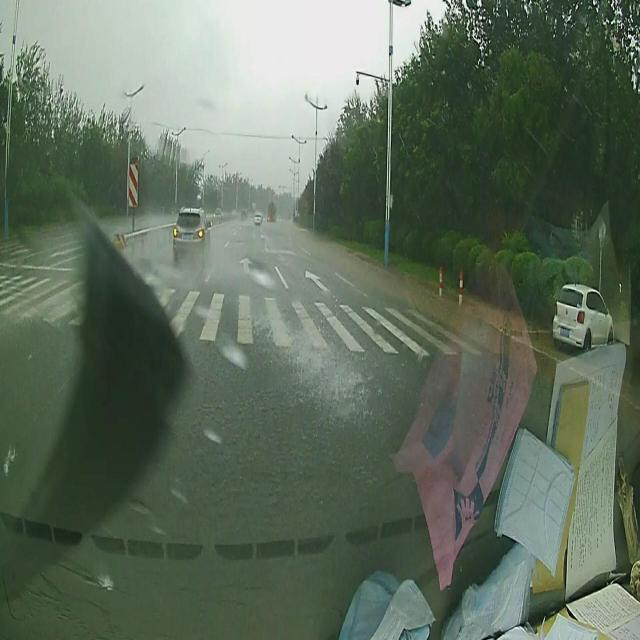car: (552, 284, 614, 350), (172, 204, 210, 264), (266, 198, 276, 222), (253, 212, 261, 225)
